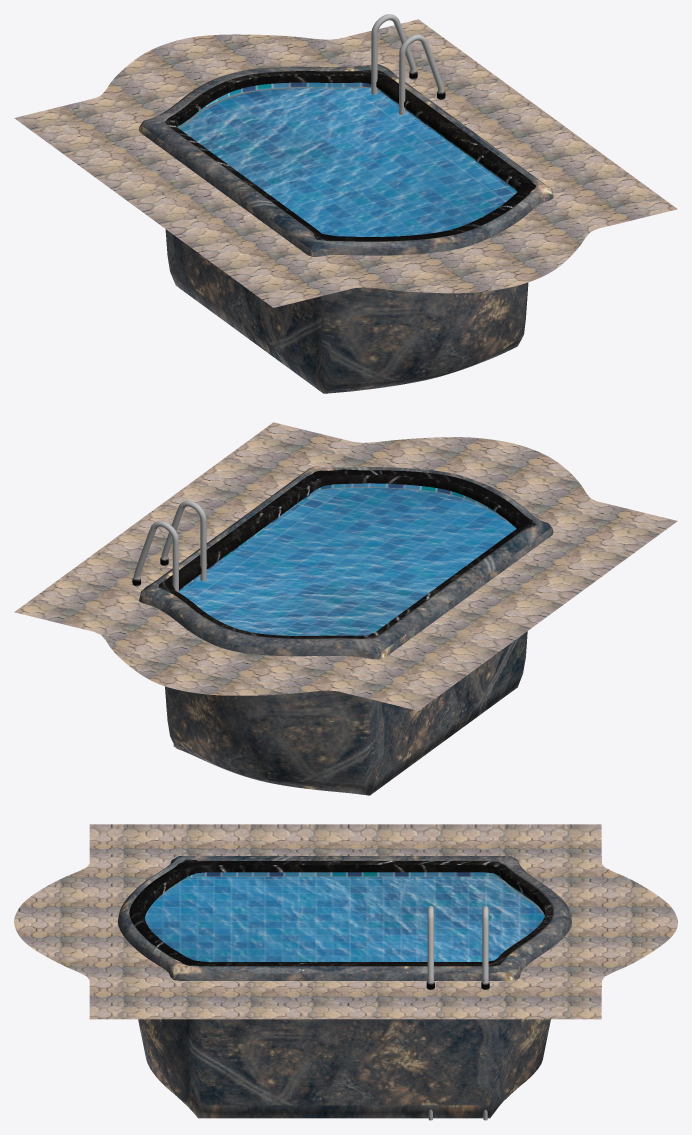
The model's file is Swimming_Pool.obj.
3 renders of one model, top to bottom at view 1: azimuth 30°, elevation 25°; view 2: azimuth 150°, elevation 25°; view 3: azimuth 270°, elevation 25°, orthographic.
Visible parts, largest first — view 1: polySurface1; view 2: polySurface1; view 3: polySurface1.
Part boxes in pixels (left/top/right/bottom): polySurface1: left=14, top=14, right=677, bottom=393; polySurface1: left=14, top=422, right=677, bottom=795; polySurface1: left=14, top=824, right=677, bottom=1120.
Size of the model in its own units: 51.62 by 27.02 by 74.37.
